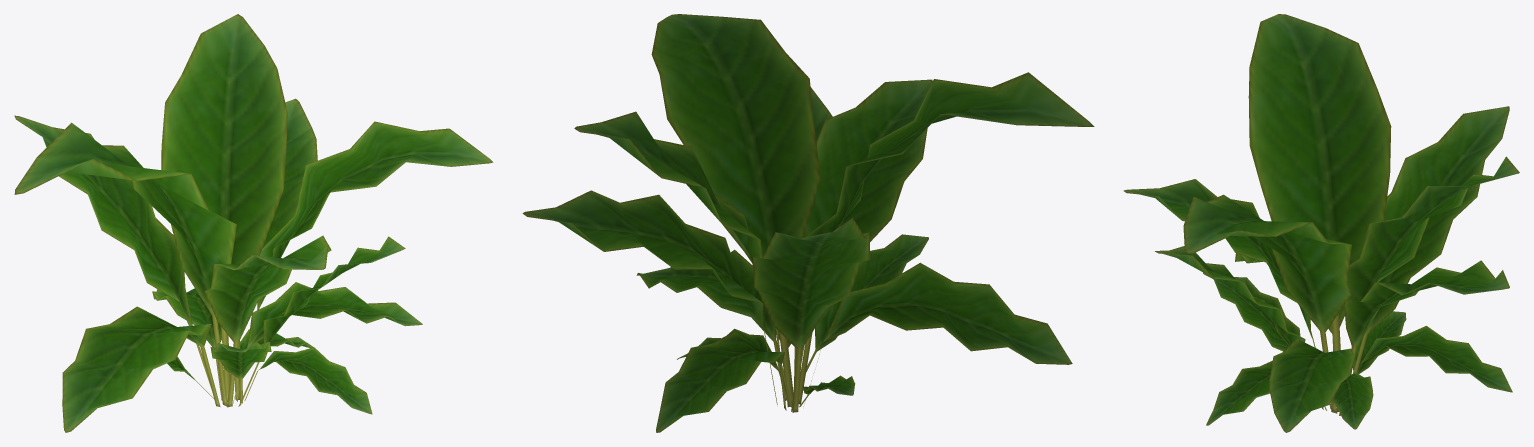
The model's file is plante-6.glb.
3 views of the same model, side by side, from view 1: azimuth 30°, elevation 25°; view 2: azimuth 150°, elevation 25°; view 3: azimuth 270°, elevation 25° (orthographic). The views are drawn at different scales.
Parts seen in each view (by area): view 1: Object_5.455; view 2: Object_5.455; view 3: Object_5.455.
Part boxes in pixels (<box>): Object_5.455: <box>14,14,493,432</box>; Object_5.455: <box>522,14,1094,432</box>; Object_5.455: <box>1123,14,1519,432</box>.
Size of the model in its own units: 0.5391 by 0.3814 by 0.4445.
Materials: 1 (1 with a texture image).
